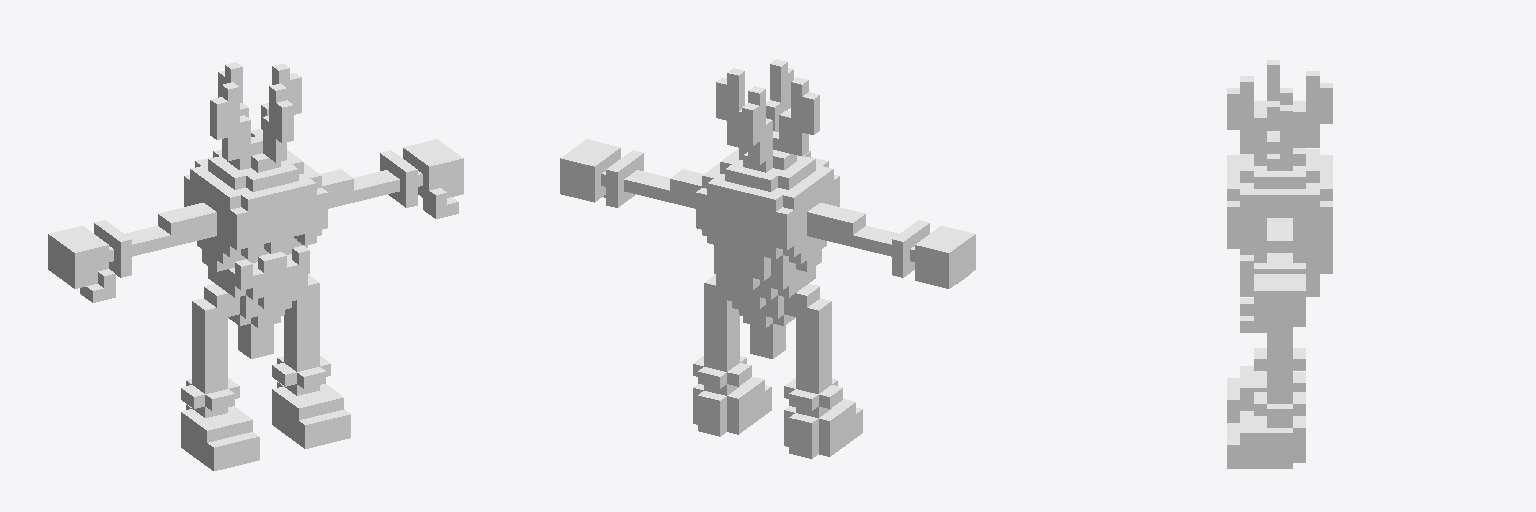
Rendered from ZanhoriaMalula.obj.
3 renders of one model, left to right at view 1: azimuth 30°, elevation 25°; view 2: azimuth 150°, elevation 25°; view 3: azimuth 270°, elevation 25°, orthographic.
Visible parts, largest first — view 1: object 1; view 2: object 1; view 3: object 1.
Part boxes in pixels (x1,y1,x2,y2): object 1: (48,62,463,470); object 1: (560,59,975,458); object 1: (1227,60,1332,468).
Bounding box in the file's own units: 3.4 × 3 × 0.8.